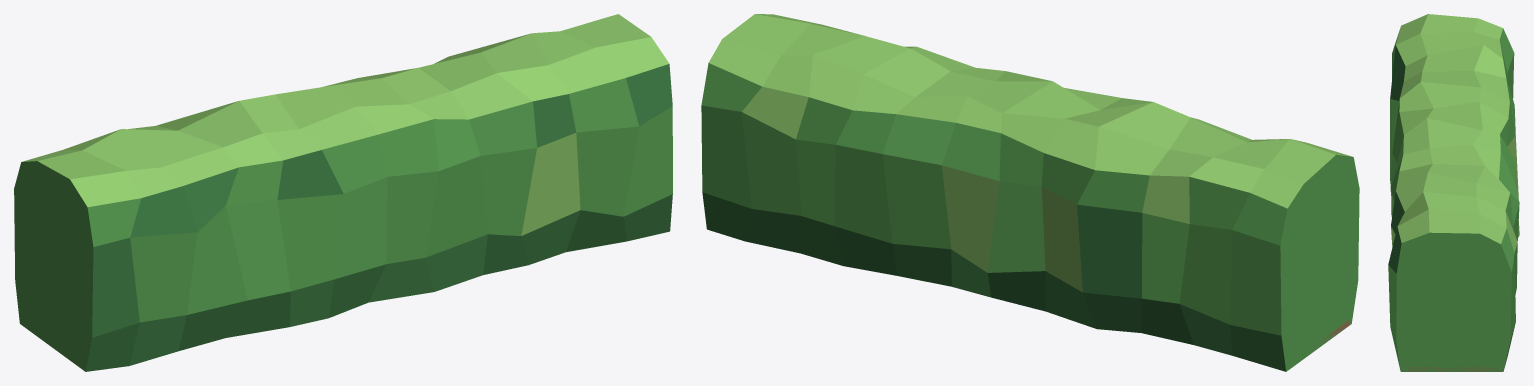
Rendered from hedge.glb.
3 views of the same model, side by side, from view 1: azimuth 30°, elevation 25°; view 2: azimuth 150°, elevation 25°; view 3: azimuth 270°, elevation 25° (orthographic). The views are drawn at different scales.
Visible parts, largest first — view 1: hedge; view 2: hedge; view 3: hedge.
Boxes of the visible parts, <box> form: hedge: <box>14,14,672,371</box>; hedge: <box>701,14,1359,371</box>; hedge: <box>1388,14,1519,371</box>.
Bounding box in the file's own units: 4 × 1.21 × 1.02.
